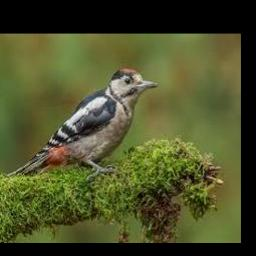Woodpecker: (8, 68, 158, 177)
